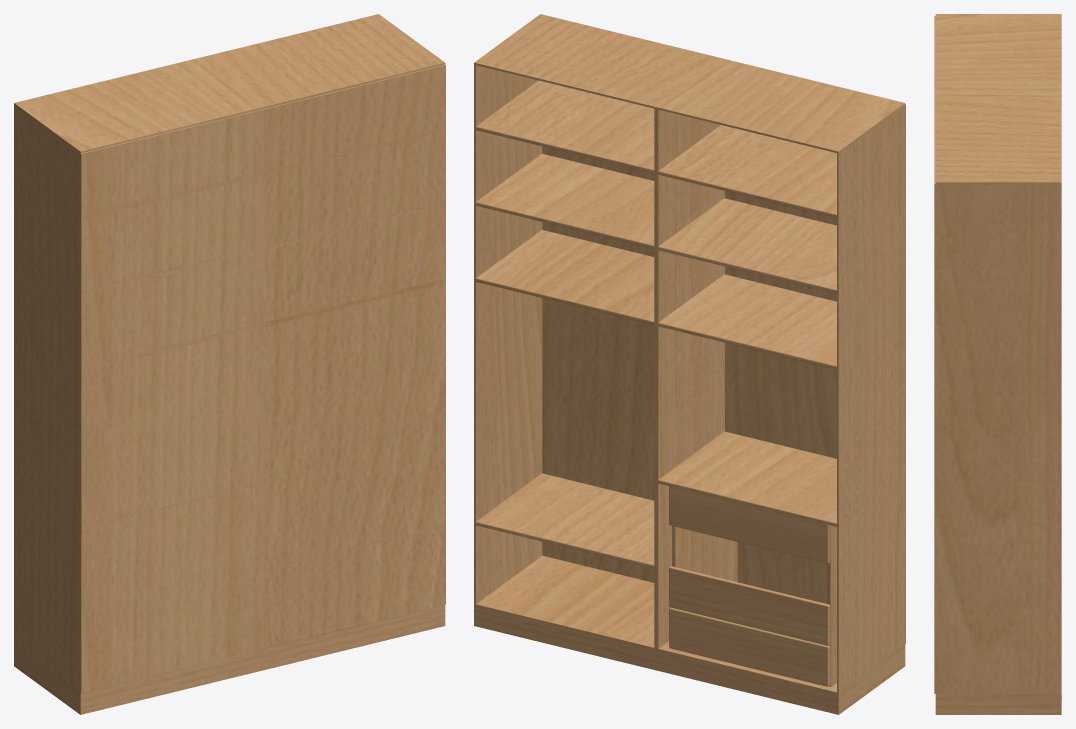
Rendered from lockerDefoult2.gltf.
The picture shows the model from 3 angles, left to right: view 1: azimuth 30°, elevation 25°; view 2: azimuth 150°, elevation 25°; view 3: azimuth 270°, elevation 25°; orthographic projection. The views are drawn at different scales.
Visible parts, largest first — view 1: lockerDefoult2; view 2: lockerDefoult2; view 3: lockerDefoult2.
Boxes of the visible parts, x1=… form: lockerDefoult2: x1=14, y1=14, x2=445, y2=714; lockerDefoult2: x1=474, y1=14, x2=905, y2=714; lockerDefoult2: x1=934, y1=14, x2=1061, y2=714.
Bounding box in the file's own units: 1.9 × 2.8 × 0.606.
Materials: 1 (1 with a texture image).
